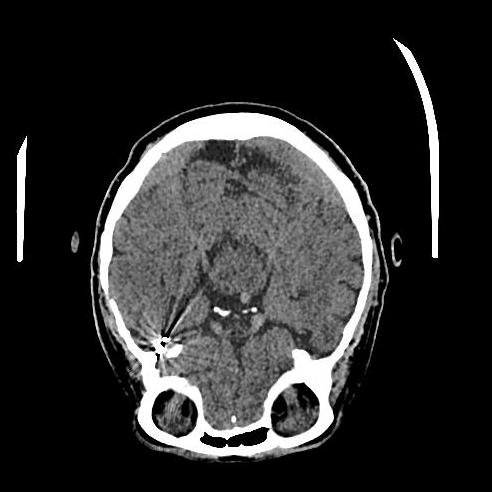Aneurysm: (137, 322, 190, 371)
